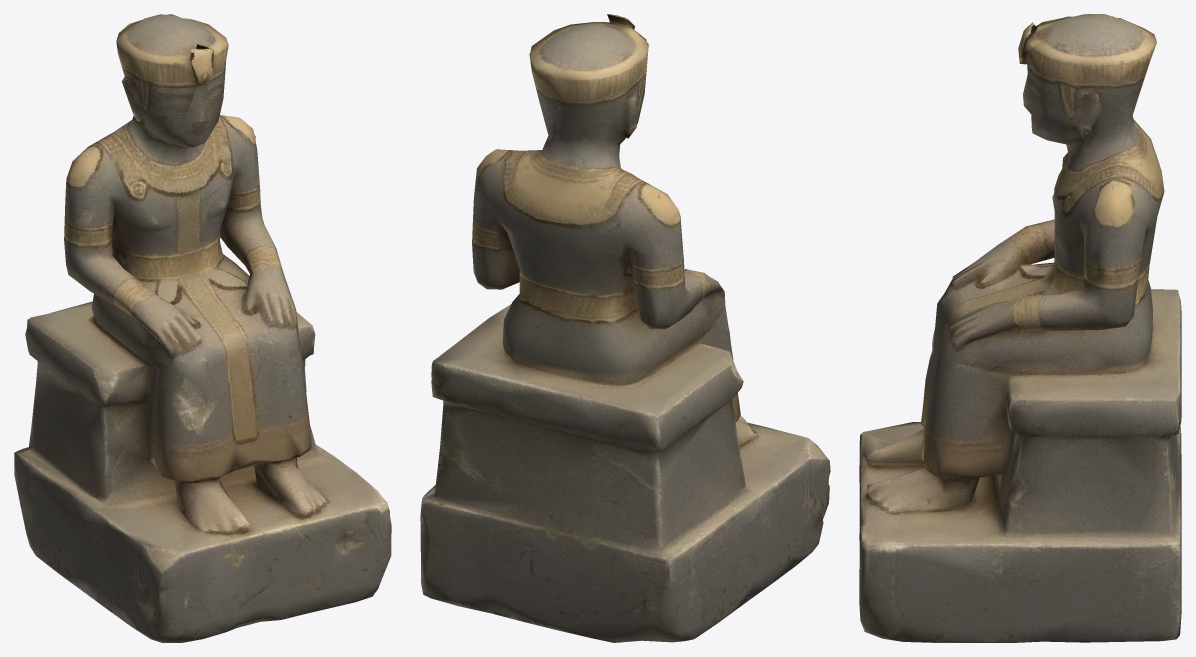
File: idol.glb
3 renders of one model, left to right at view 1: azimuth 30°, elevation 25°; view 2: azimuth 150°, elevation 25°; view 3: azimuth 270°, elevation 25°, orthographic. The views are drawn at different scales.
Parts seen in each view (by area): view 1: geometry_0; view 2: geometry_0; view 3: geometry_0.
Part boxes in pixels (x1,y1,x2,y2): geometry_0: (14, 14, 391, 642); geometry_0: (420, 14, 830, 642); geometry_0: (859, 14, 1181, 642).
Bounding box in the file's own units: 0.4753 × 0.9988 × 0.5183.
Materials: 1 (1 with a texture image).
